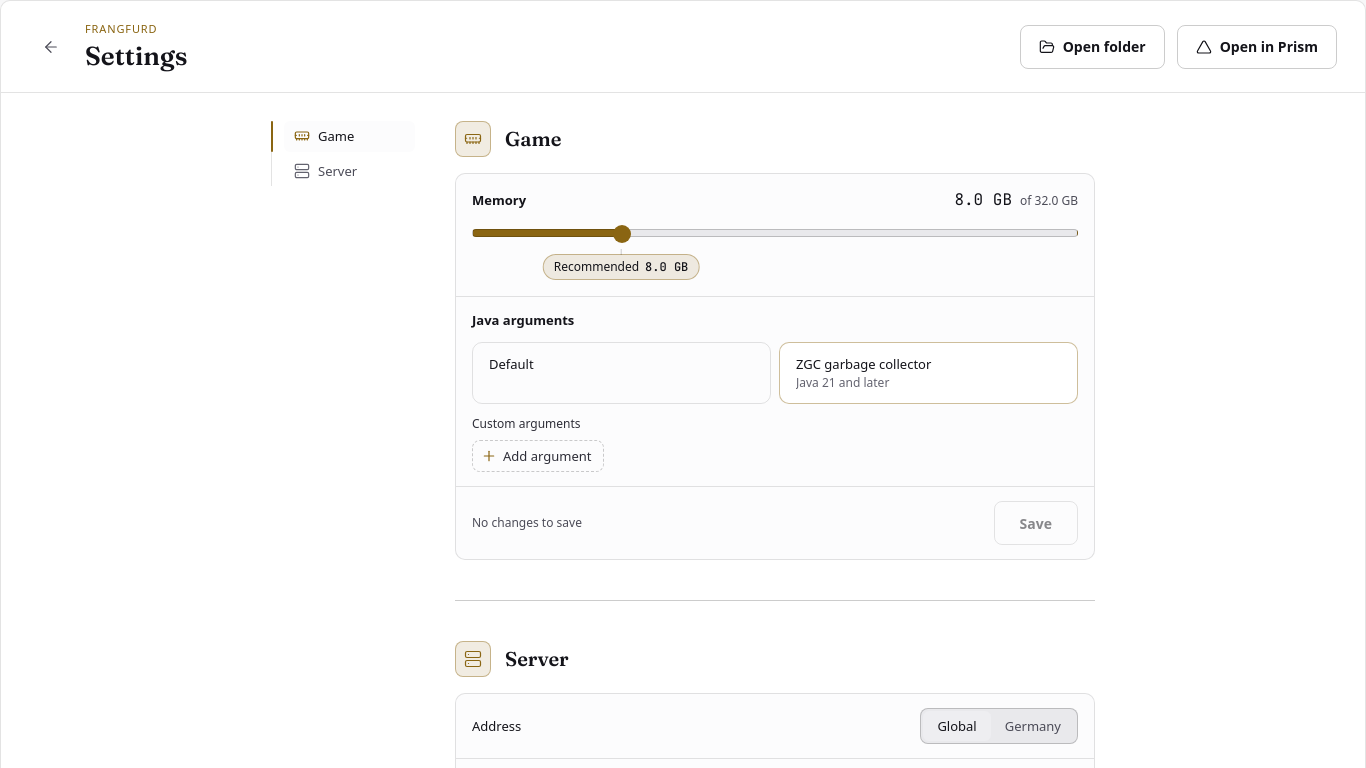
Test: ChapterSettingsPanel › reverts the draft to what Go read
This screenshot has width=1366, height=768.
Set the slider labelled "Memory" to "4096": (546, 233) [472,224,1078,242]
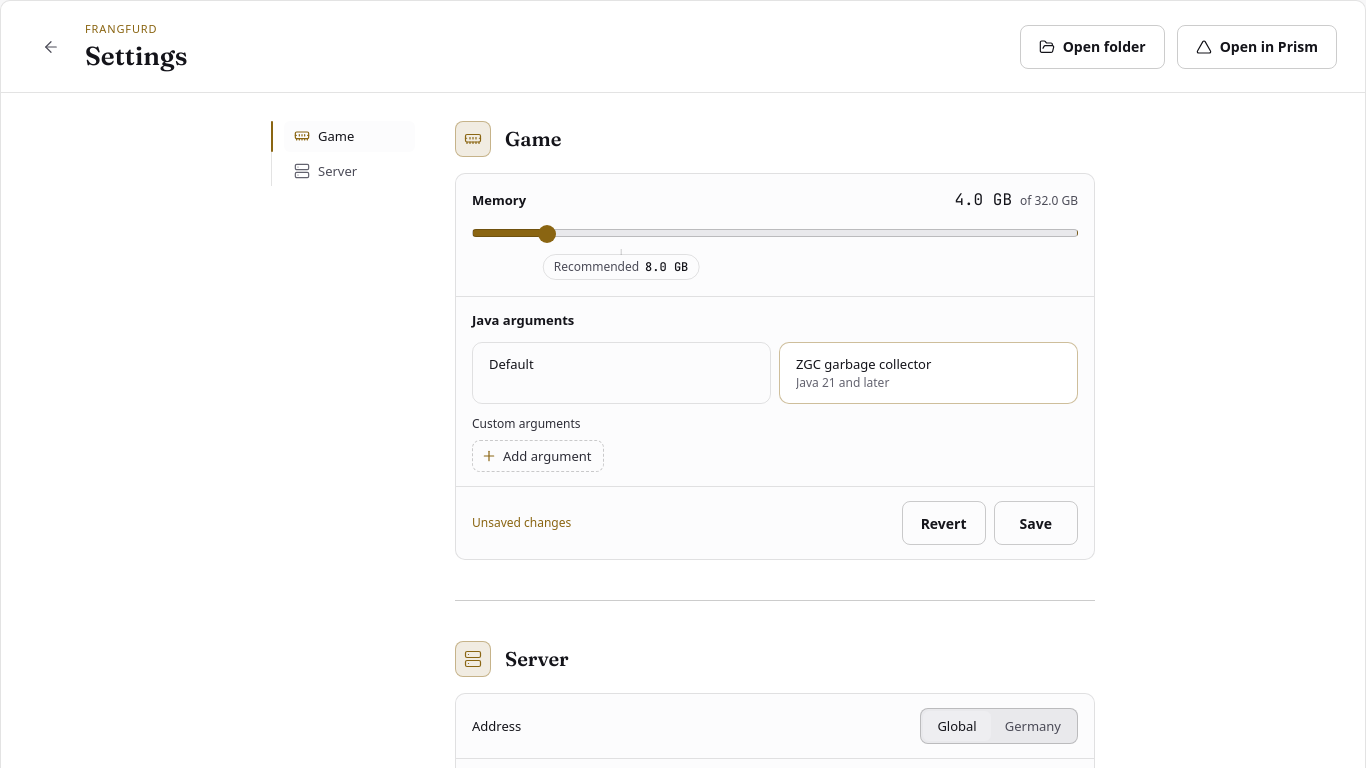
Click the radio button labelled "Default": click(511, 364) [472,342,771,404]
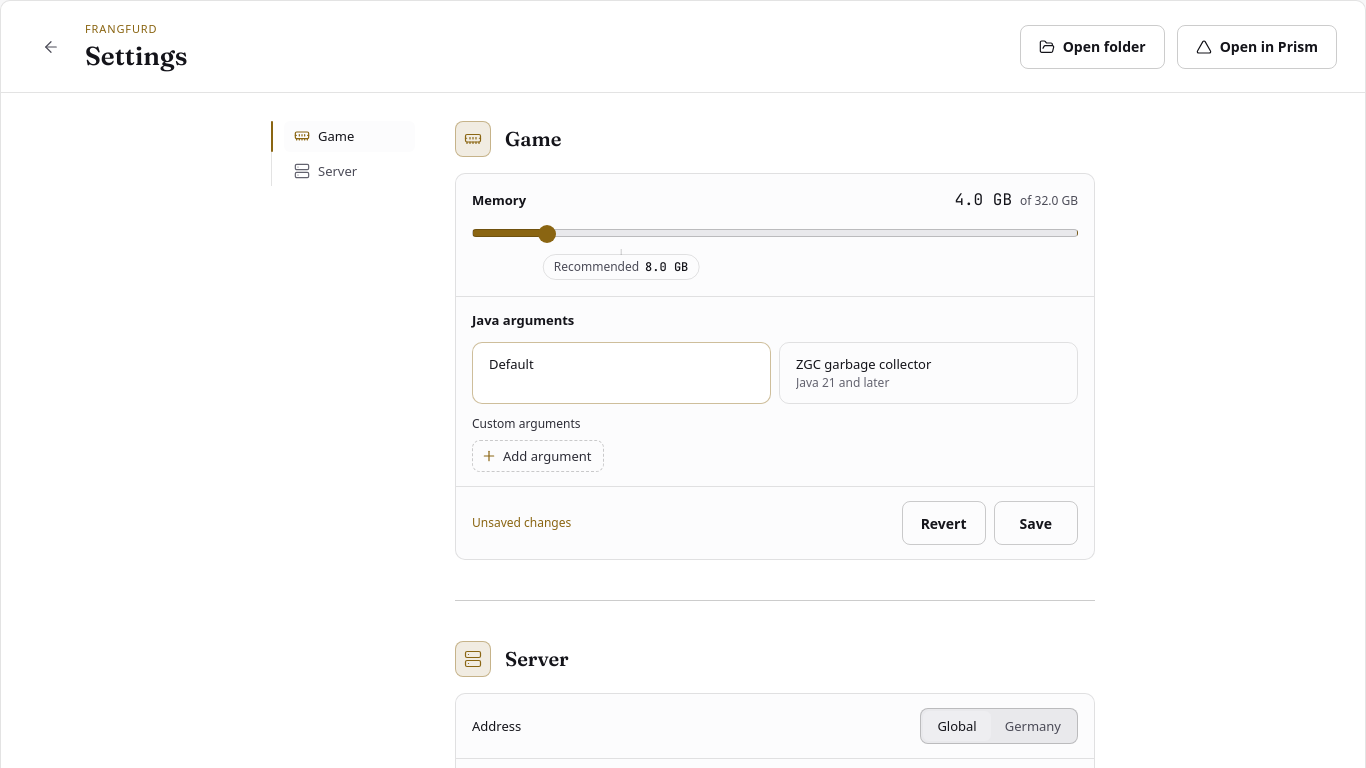
Click the button "Revert": click(944, 523) [902,501,986,545]
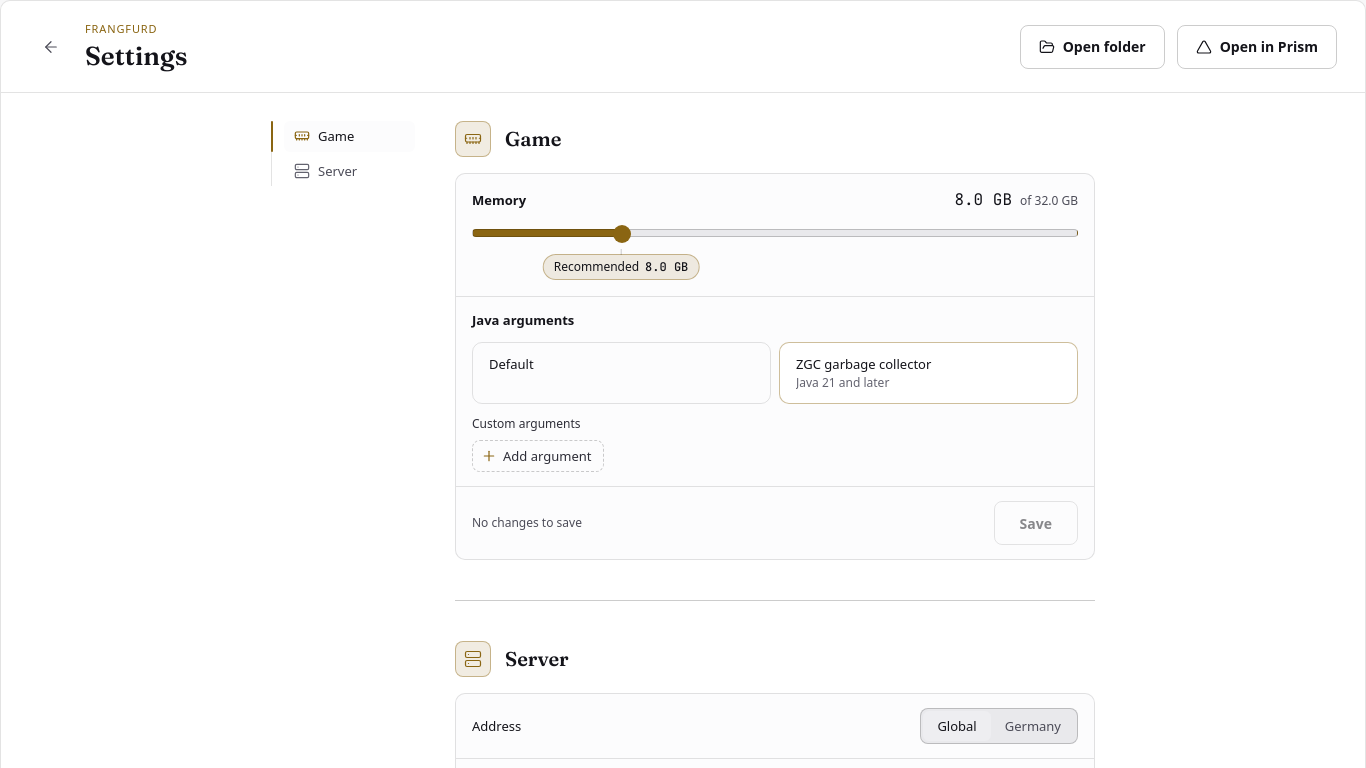
expect the slider labelled "Memory" holds "8192": met, box [472,224,1078,242]
expect the button "Revert" is gone: met
expect the message reads "No changes to save": met, box [472,514,582,531]
